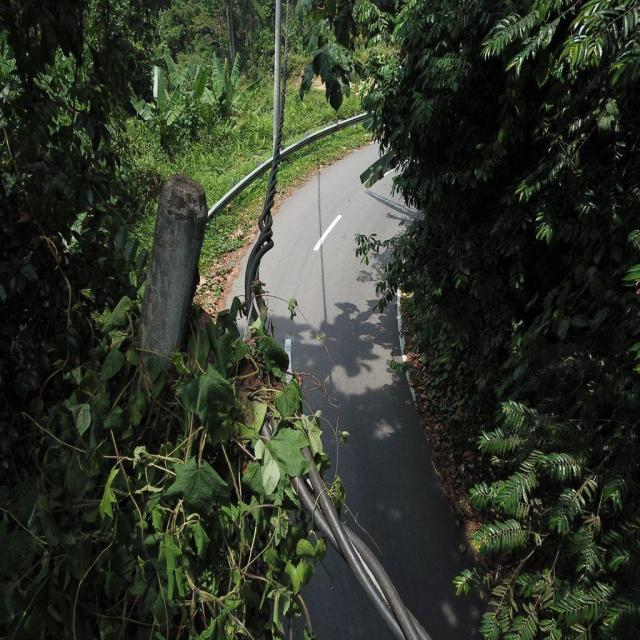critical vegetation: (26, 276, 342, 631)
